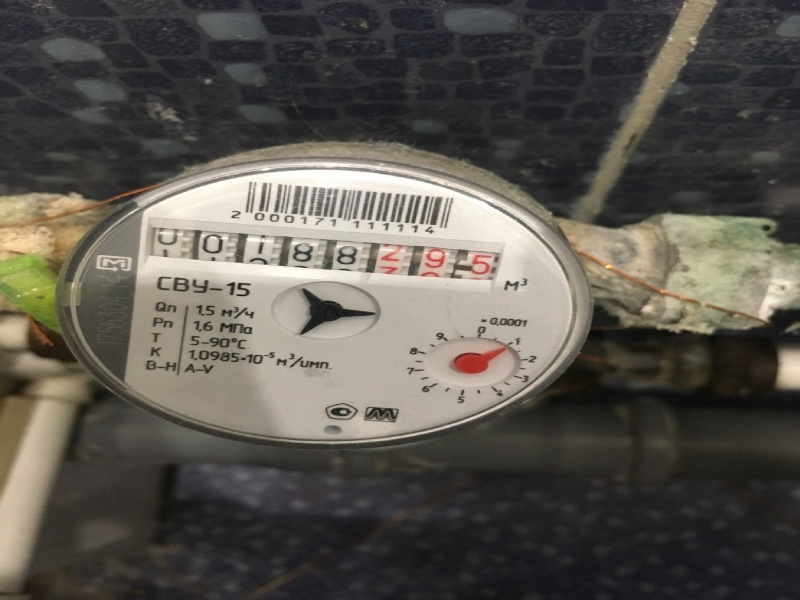dial: (136, 226, 496, 279)
